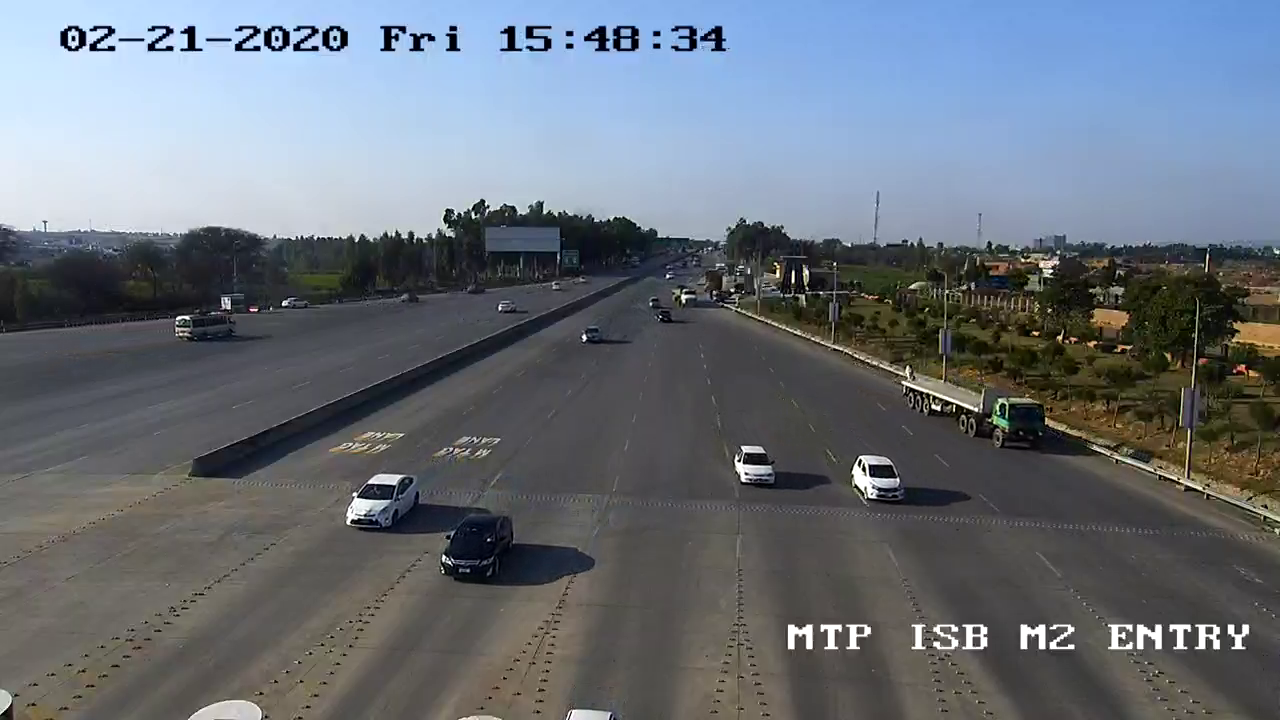f1: (430, 505, 523, 592), (334, 463, 429, 537), (842, 446, 912, 509), (727, 437, 785, 494)
f6: (891, 360, 1055, 455)
